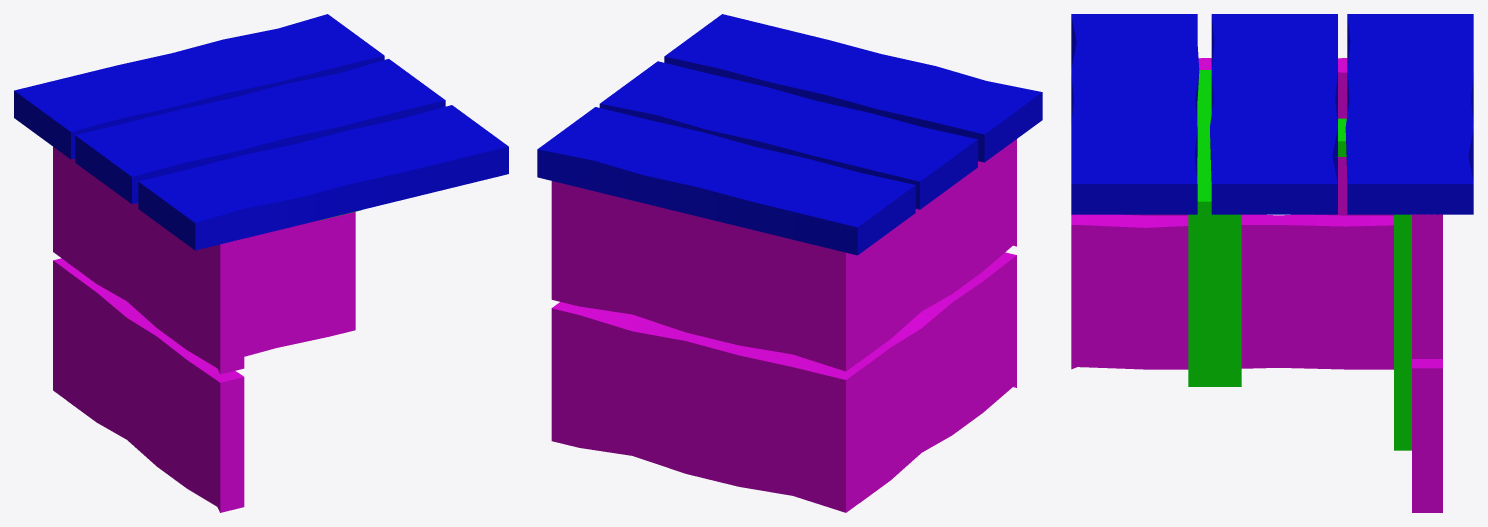
File: KCounterL.fbx
3 renders of one model, left to right at view 1: azimuth 30°, elevation 25°; view 2: azimuth 150°, elevation 25°; view 3: azimuth 270°, elevation 25°, orthographic. The views are drawn at different scales.
Visible parts, largest first — view 1: CounterL_LP1_pCube77; view 2: CounterL_LP1_pCube77; view 3: CounterL_LP1_pCube77.
Boxes of the visible parts, box(x1,y1,x2,y2) form: CounterL_LP1_pCube77: box(14, 14, 508, 512); CounterL_LP1_pCube77: box(537, 14, 1042, 512); CounterL_LP1_pCube77: box(1071, 14, 1473, 512).
Bounding box in the file's own units: 2 × 1.86 × 2.
